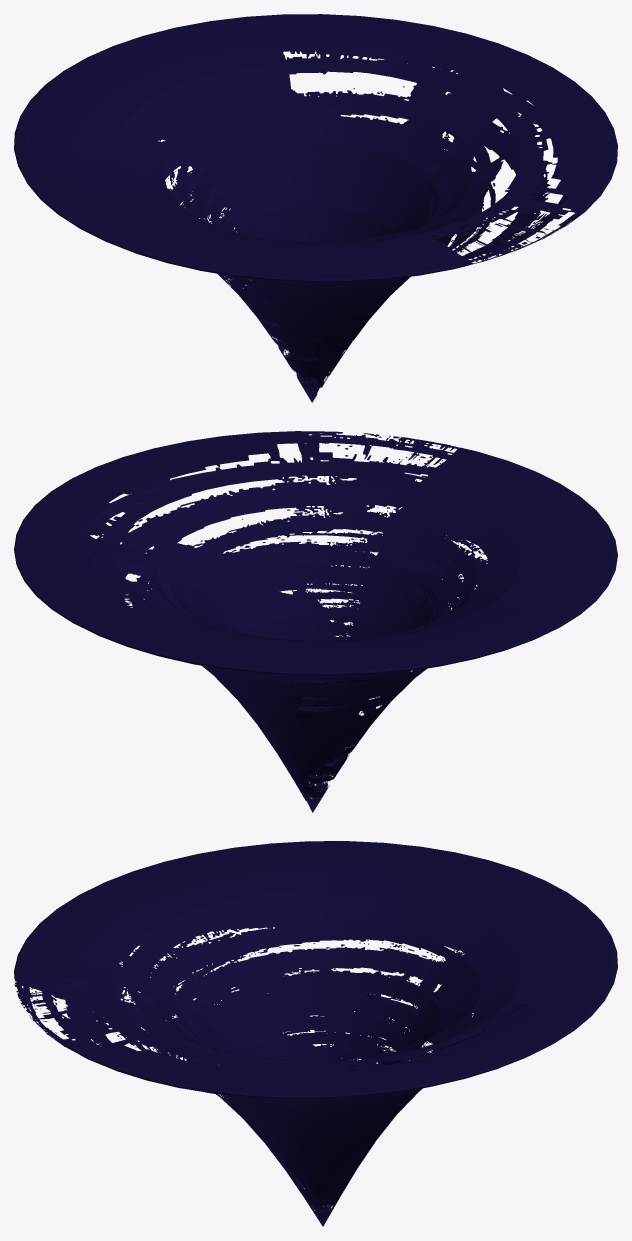
File: Vortex_fix.FBX
3 renders of one model, top to bottom at view 1: azimuth 30°, elevation 25°; view 2: azimuth 150°, elevation 25°; view 3: azimuth 270°, elevation 25°, orthographic.
Parts seen in each view (by area): view 1: Linie001, Track6, Track5, Track4, Track3, Track2, Track1; view 2: Linie001, Track6, Track5, Track4, Track3, Track2, Track1; view 3: Linie001, Track6, Track5, Track4, Track3, Track2, Track1.
Boxes of the visible parts, x1,y1,x2,y2 form: Linie001: [14, 14, 617, 402]; Track6: [30, 21, 601, 273]; Track5: [71, 41, 560, 257]; Track4: [111, 65, 519, 244]; Track3: [152, 97, 478, 230]; Track2: [193, 143, 437, 232]; Track1: [212, 172, 416, 233]; Linie001: [14, 431, 617, 812]; Track6: [30, 438, 601, 667]; Track5: [71, 455, 560, 652]; Track4: [111, 478, 519, 642]; Track3: [152, 509, 478, 623]; Track2: [193, 554, 437, 627]; Track1: [211, 586, 415, 634]; Linie001: [14, 841, 617, 1226]; Track6: [30, 848, 601, 1090]; Track5: [71, 867, 560, 1074]; Track4: [112, 890, 520, 1063]; Track3: [153, 922, 479, 1052]; Track2: [195, 967, 439, 1054]; Track1: [217, 999, 421, 1064].
Bounding box in the file's own units: 127 × 61.3 × 127.
Materials: 1 (1 with a texture image).
